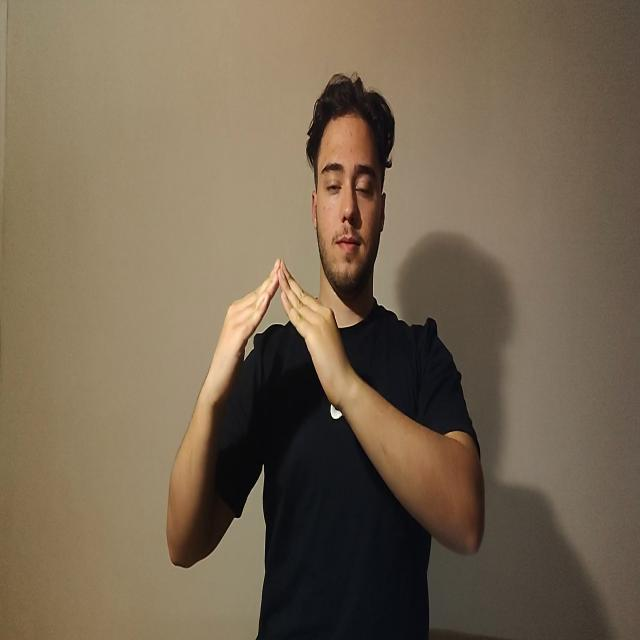house: (208, 257, 346, 412)
